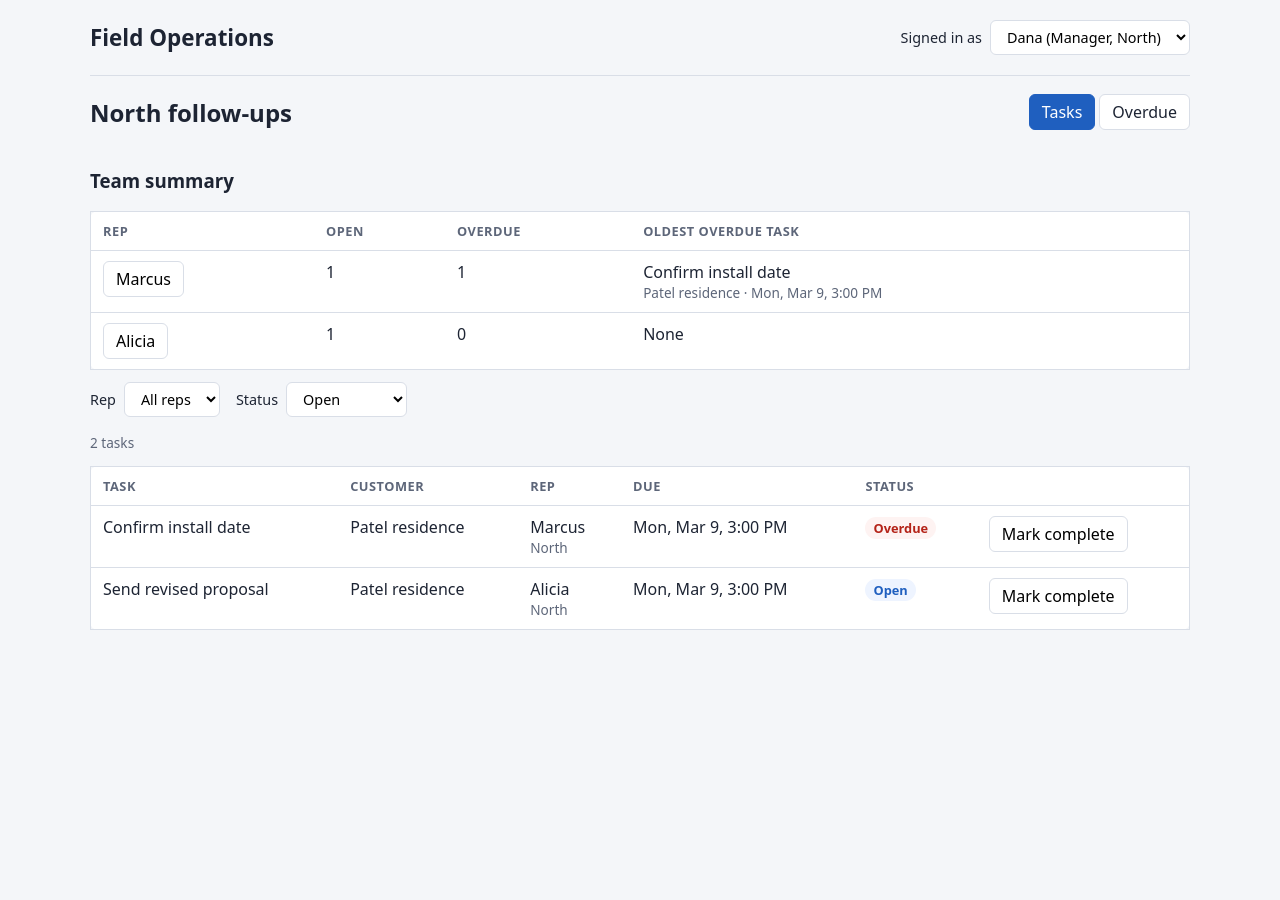
Scenario: Manager summary › keeps summary counts when completing a task fails
Expected: the table named "Tasks by rep" is shown, [90,211,1190,370]
Click the 1st button "Mark complete".
click(1058, 534)  # box [989,516,1128,552]
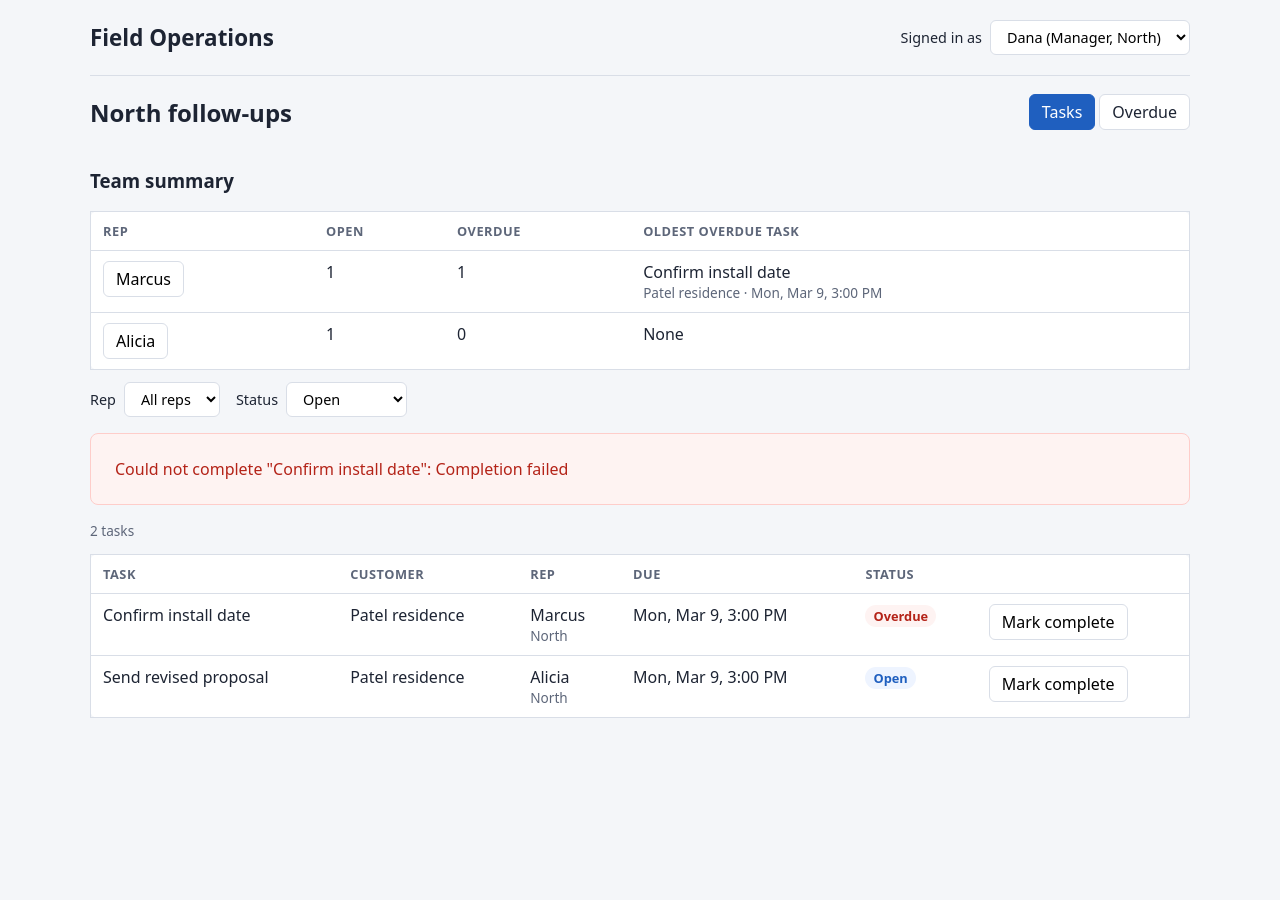
Expected: the message shows "Completion failed", [115,458,568,480]
